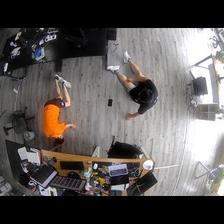fall: (110, 51, 160, 120), (44, 73, 79, 143)
